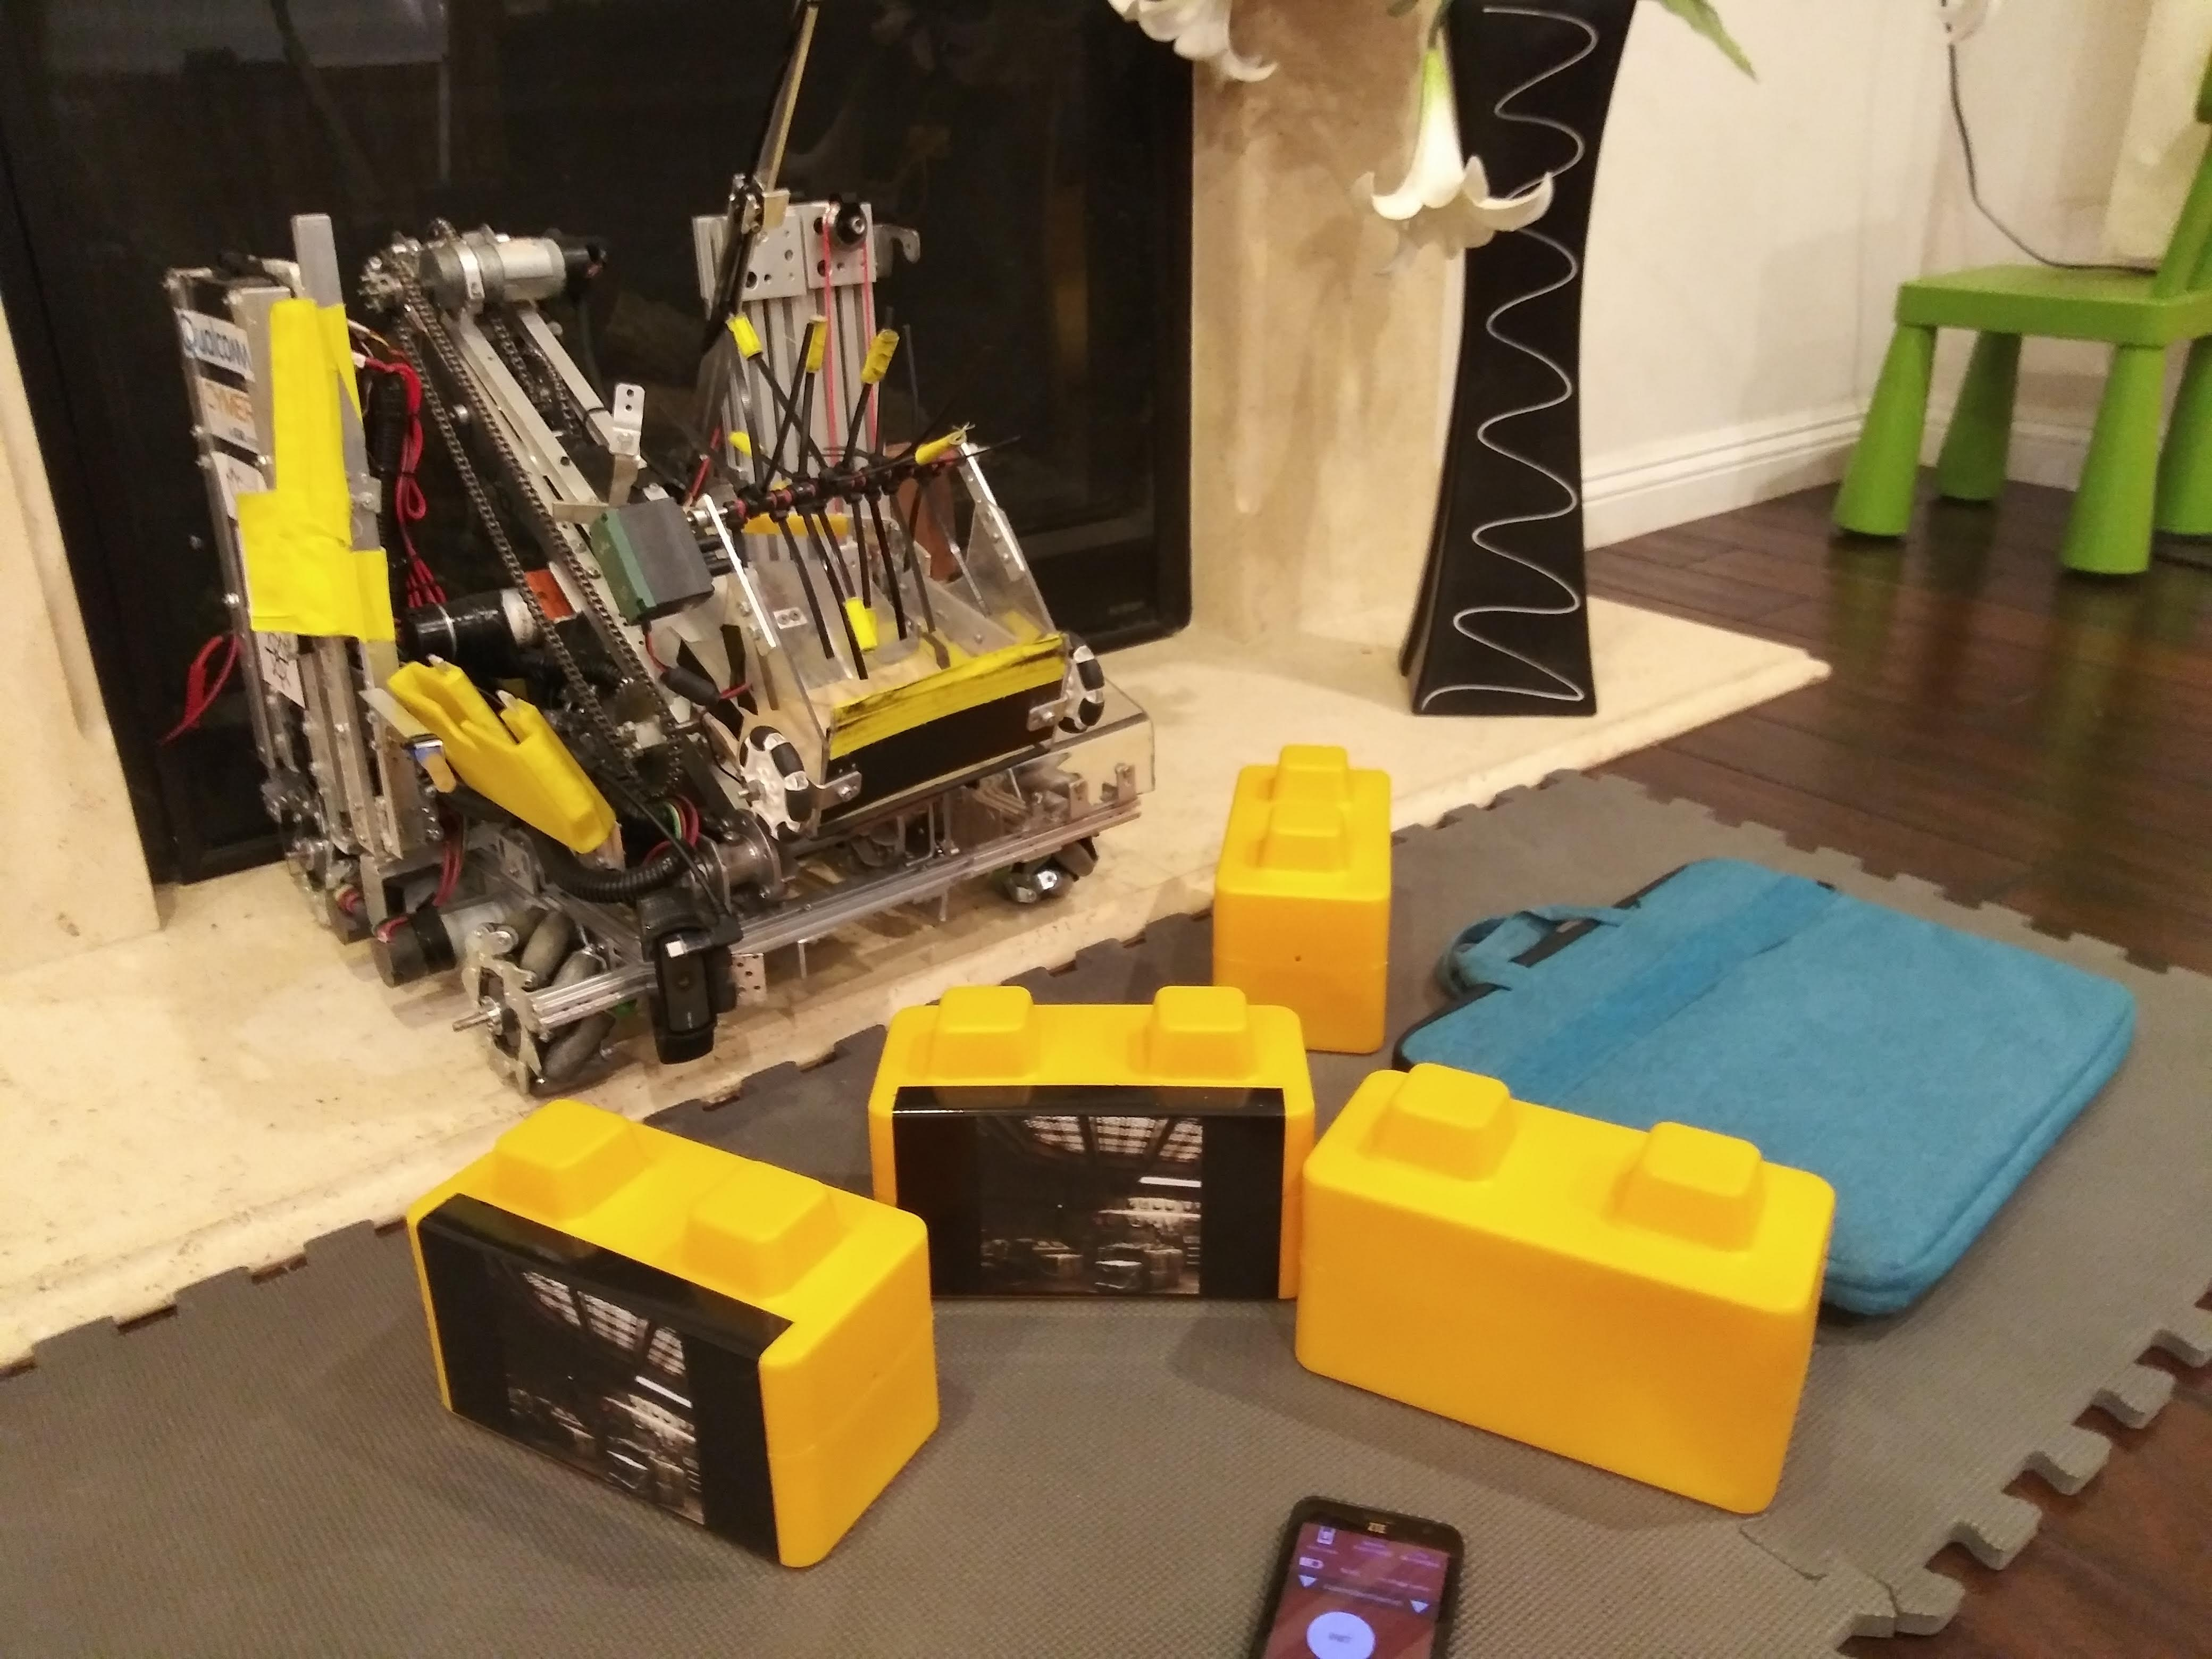skystone: (415, 1152, 873, 1537), (897, 1049, 1280, 1314)
stone: (1348, 1112, 1804, 1509), (1223, 762, 1400, 1025)
